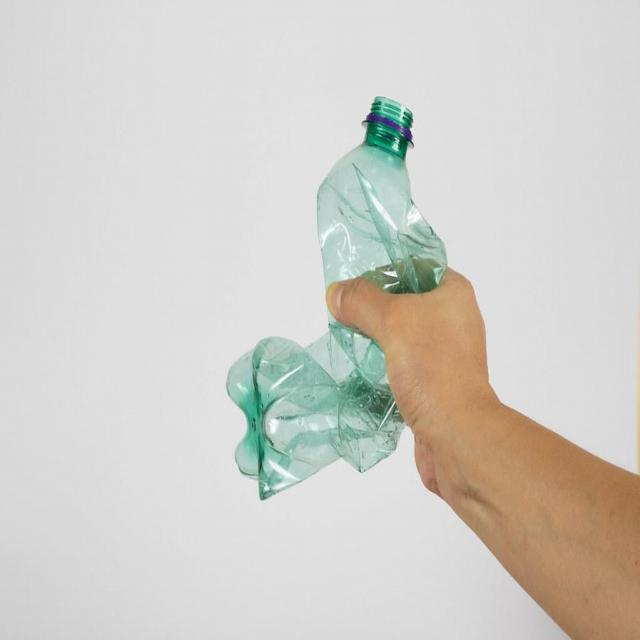bottle: (306, 93, 463, 312)
